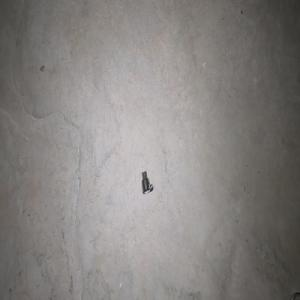MetalPart: (141, 170, 153, 194)
